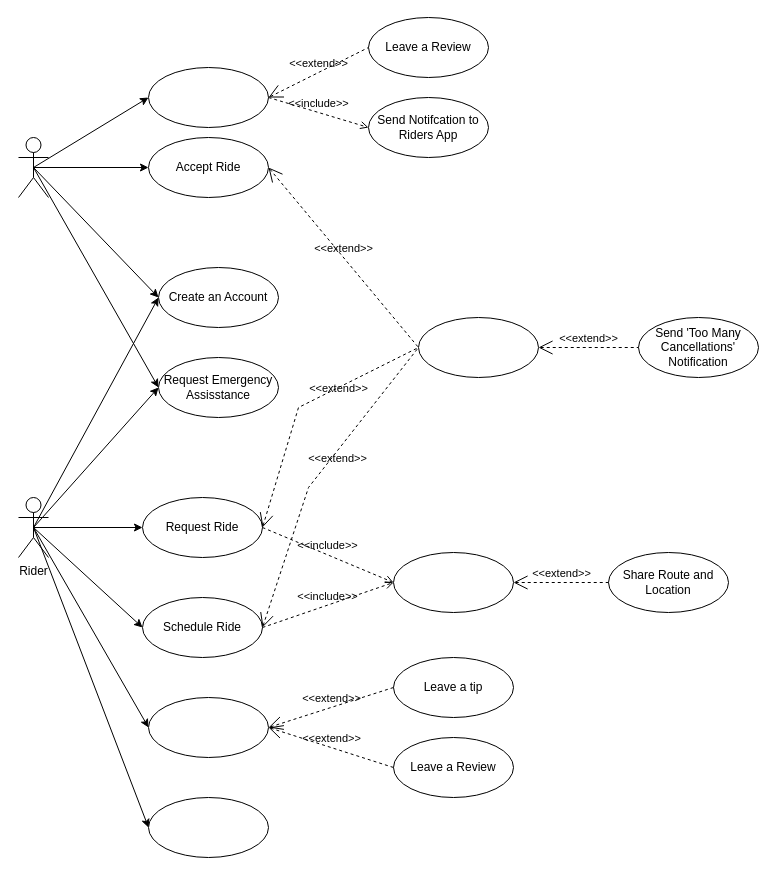
This 776x875 diagram has some shape labels left out. Here are the shapes that lost their labels. From the top down, the box of each, then its label:
(148, 66, 268, 128): Confirm Ride Completion
(18, 136, 48, 198): Driver
(418, 316, 538, 378): Cancel Ride
(392, 552, 514, 612): Preview Route
(148, 696, 268, 758): Recieve Ride End Notifcation
(148, 796, 268, 858): Make Payment
